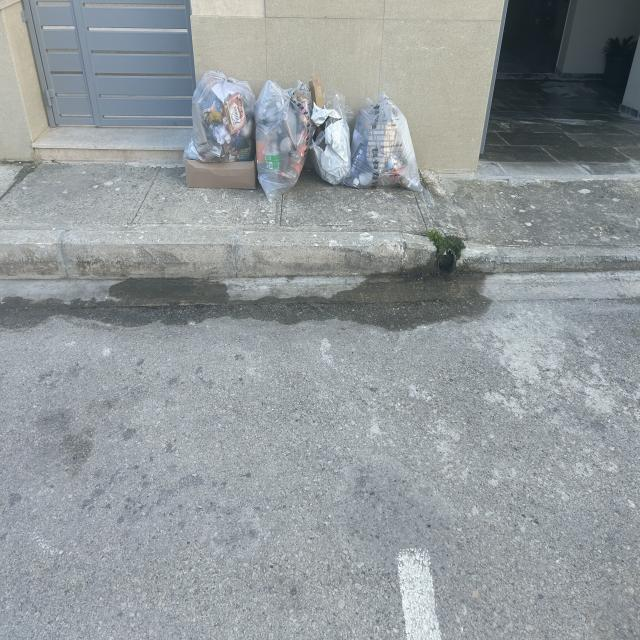grey_bag: (351, 91, 426, 192), (256, 74, 310, 203), (182, 67, 256, 161), (310, 74, 353, 188)
